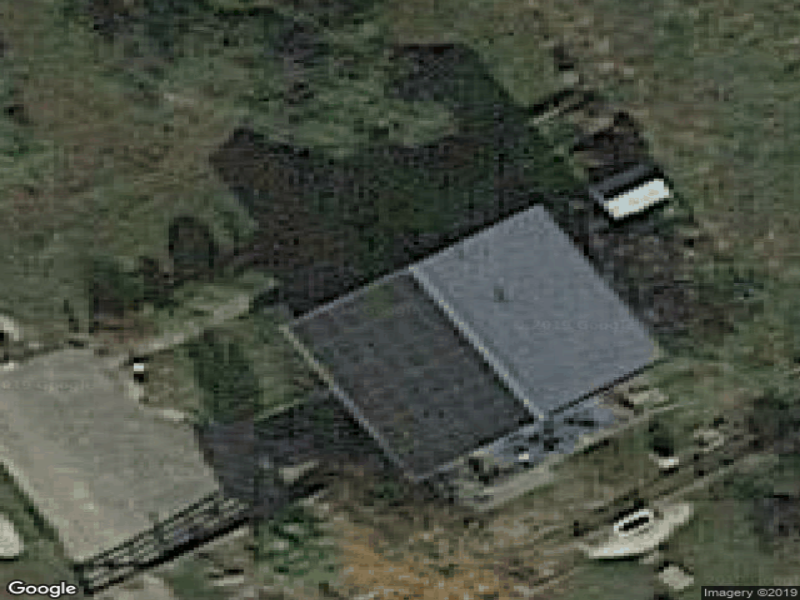pv: (290, 273, 535, 476)
